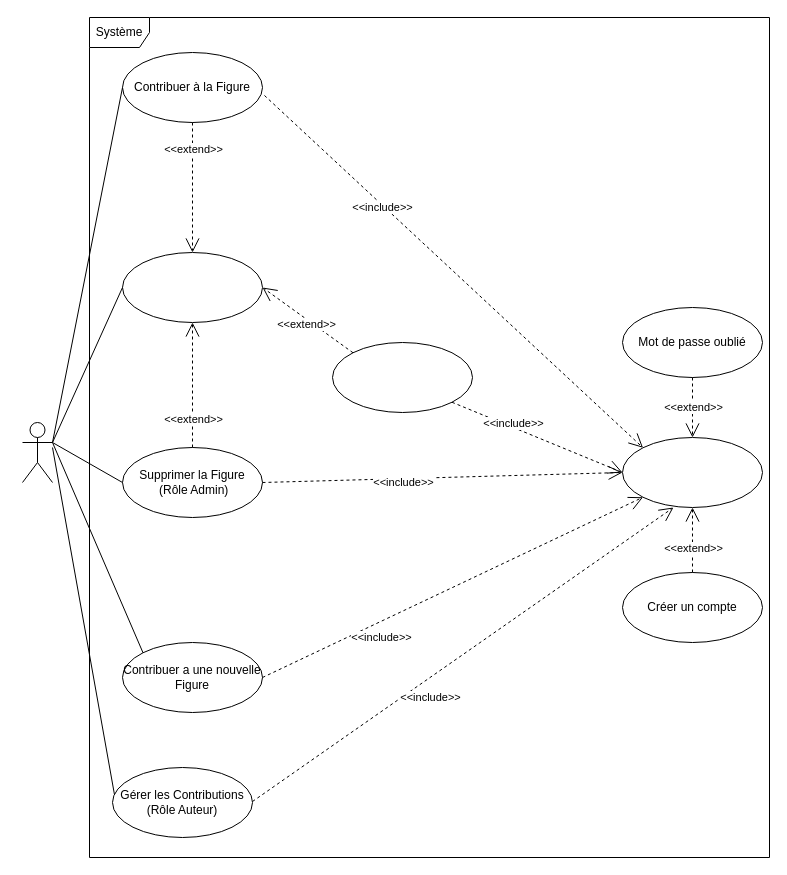
Some shapes in this 787 by 875 pixel diagram are drawn without their labels. The shapes that lost their labels are listed below. From the top down, each one's centre as x and y in pixels, then its label:
At point 192,287: "Voir une Figure".
At point 402,377: "Laisser un commentaire".
At point 37,452: "Visiteur".
At point 692,472: "Se Connecter".
